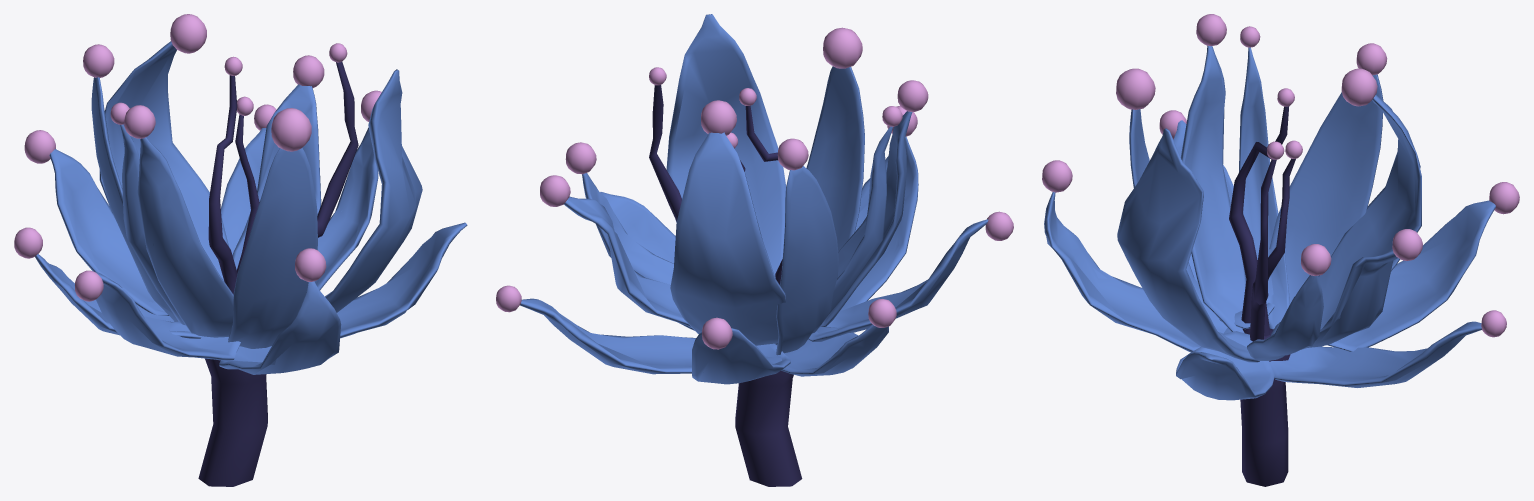
The model's file is Bollenbloem_2.fbx.
The picture shows the model from 3 angles, left to right: view 1: azimuth 30°, elevation 25°; view 2: azimuth 150°, elevation 25°; view 3: azimuth 270°, elevation 25°; orthographic projection. The views are drawn at different scales.
Parts seen in each view (by area): view 1: polySurface49; view 2: polySurface49; view 3: polySurface49.
Boxes of the visible parts, x1=… form: polySurface49: x1=14, y1=14, x2=467, y2=486; polySurface49: x1=496, y1=14, x2=1013, y2=486; polySurface49: x1=1042, y1=14, x2=1519, y2=486.
Size of the model in its own units: 0.0506 by 0.0499 by 0.0528.
